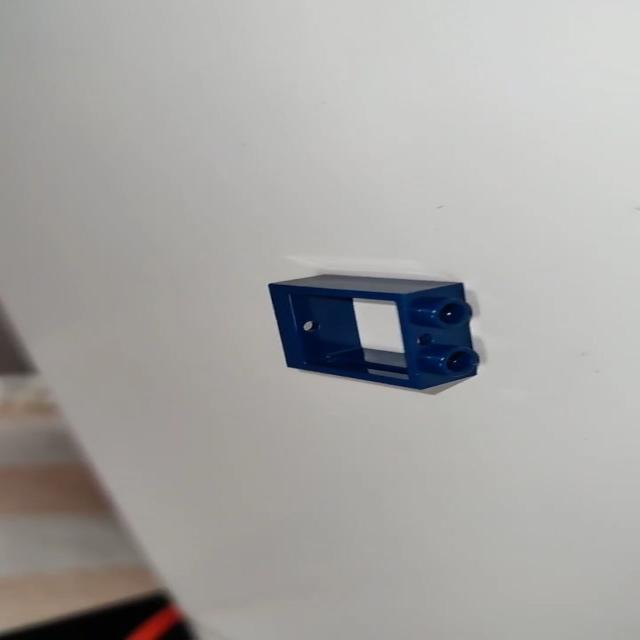W2x1x2: (264, 276, 498, 388)
